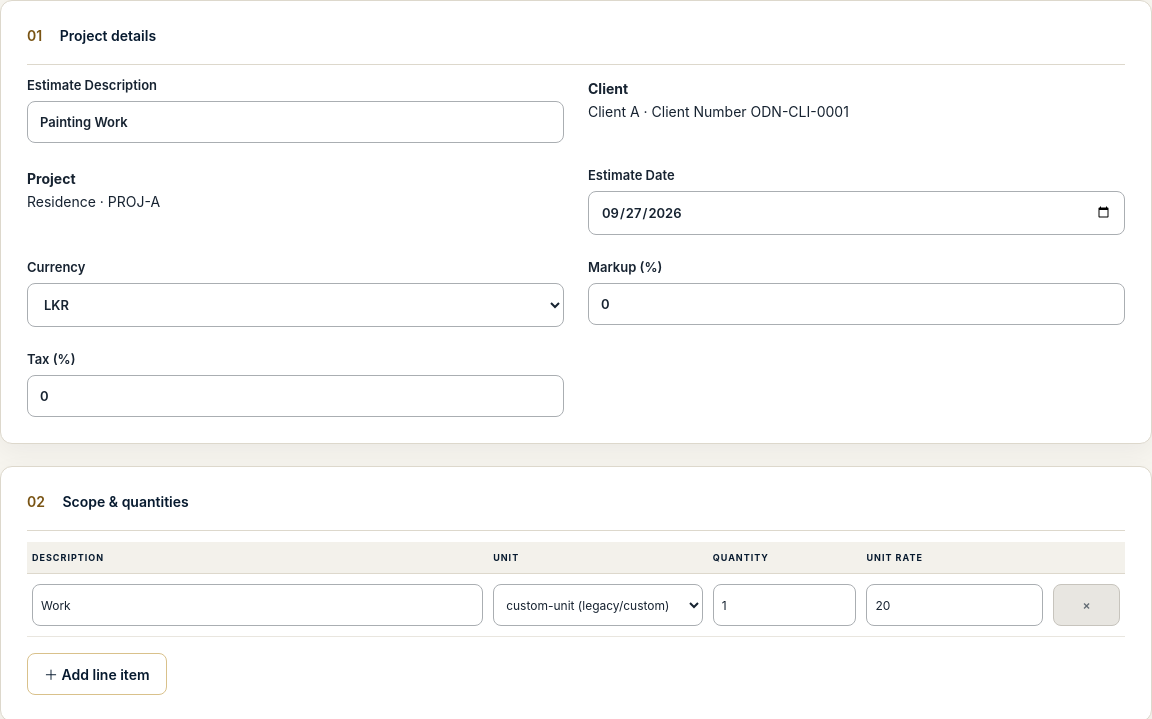
it: Project-scoped estimate form › preserves a legacy unit and rejects pasted invalid decimal values
Expected: the dropdown named "Unit 1" shows "custom-unit (legacy/custom)", [493,584,703,626]
Replace the text in the field named "Quantity 1" with "-1" at point(785, 605), box [713,584,856,626]
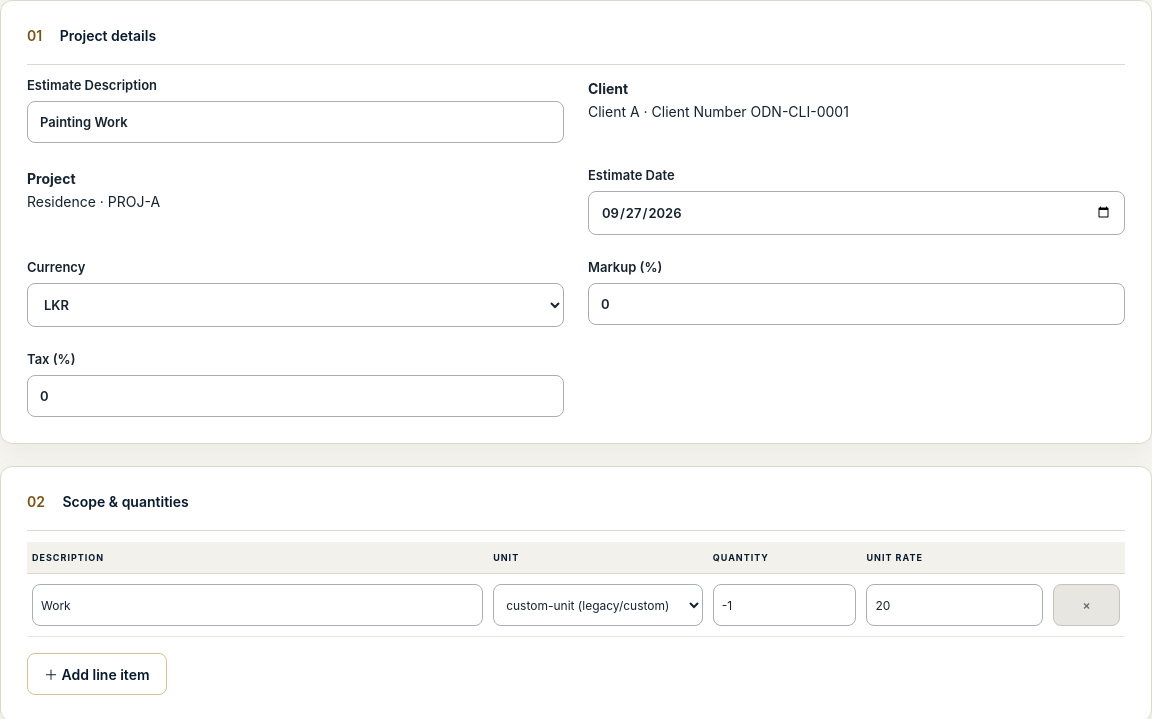
Replace the text in the field named "Rate 1" with "0.001" at point(955, 605), box [866,584,1043,626]
(page scrolled)
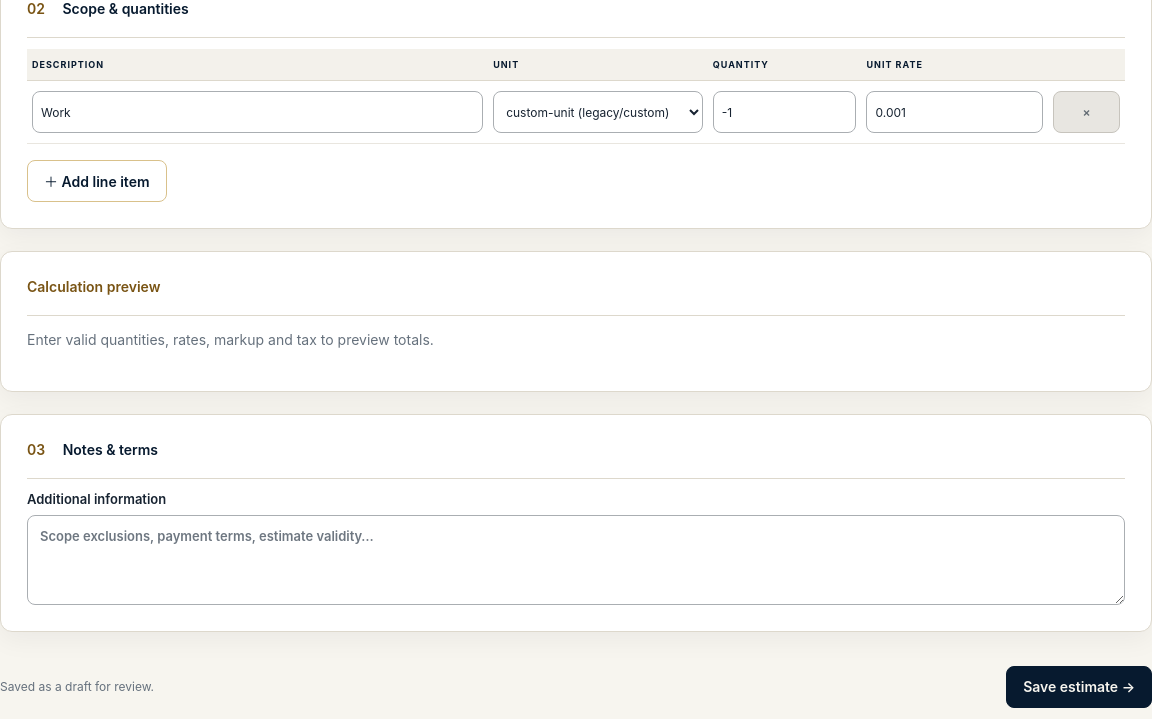
Click the button "Save estimate →" at point(1079, 686), box [1006,666,1151,708]
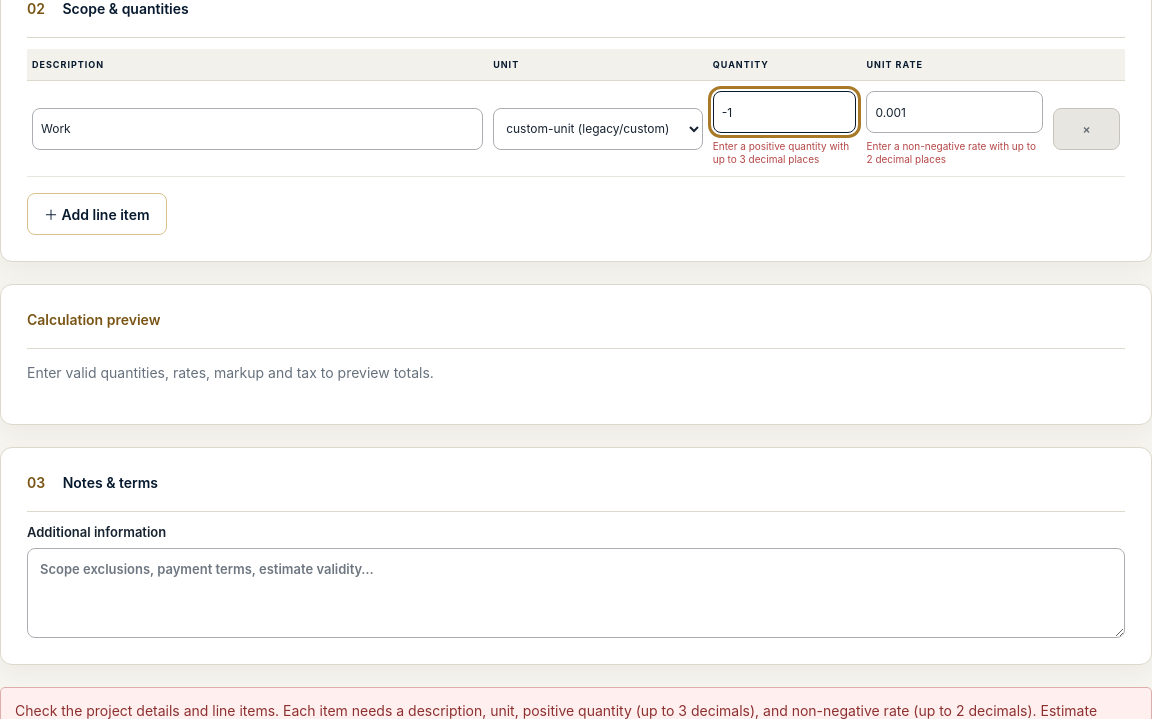
Expected: the text "Enter a positive quantity with up to 3 decimal places" is shown, [713,140,856,166]
Expected: the text "Enter a non-negative rate with up to 2 decimal places" is shown, [866,140,1043,166]
